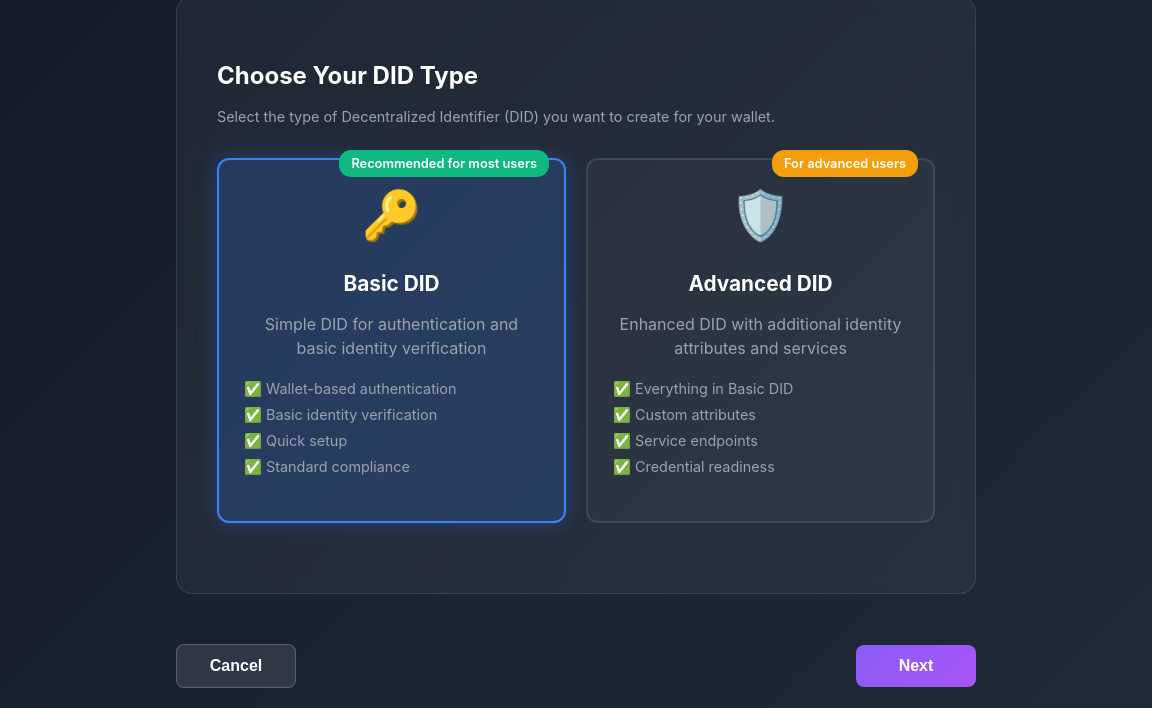
Test: DIDWizard › Step 3: Preview › shows preview for Basic DID
The width and height of the screenshot is (1152, 708).
(page scrolled)
Click the button "Next": coordinates (916, 666) [856, 645, 976, 687]
(page scrolled)
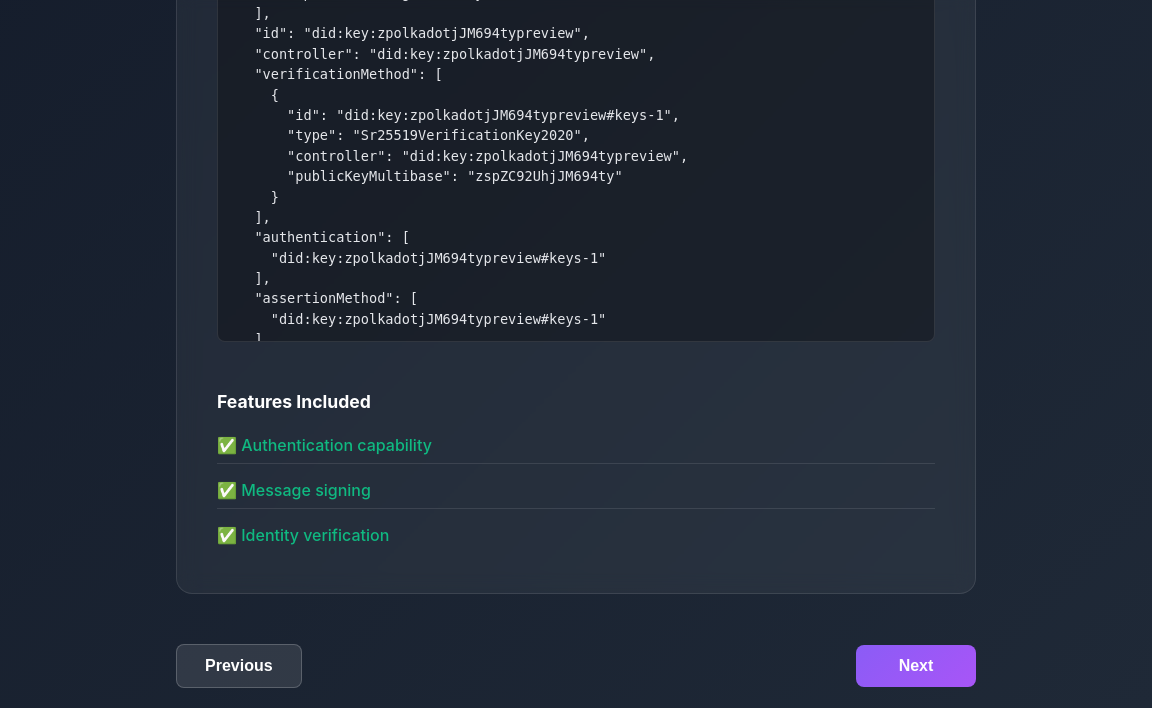
Expected: the heading "Features Included" is shown, [217, 391, 371, 412]
